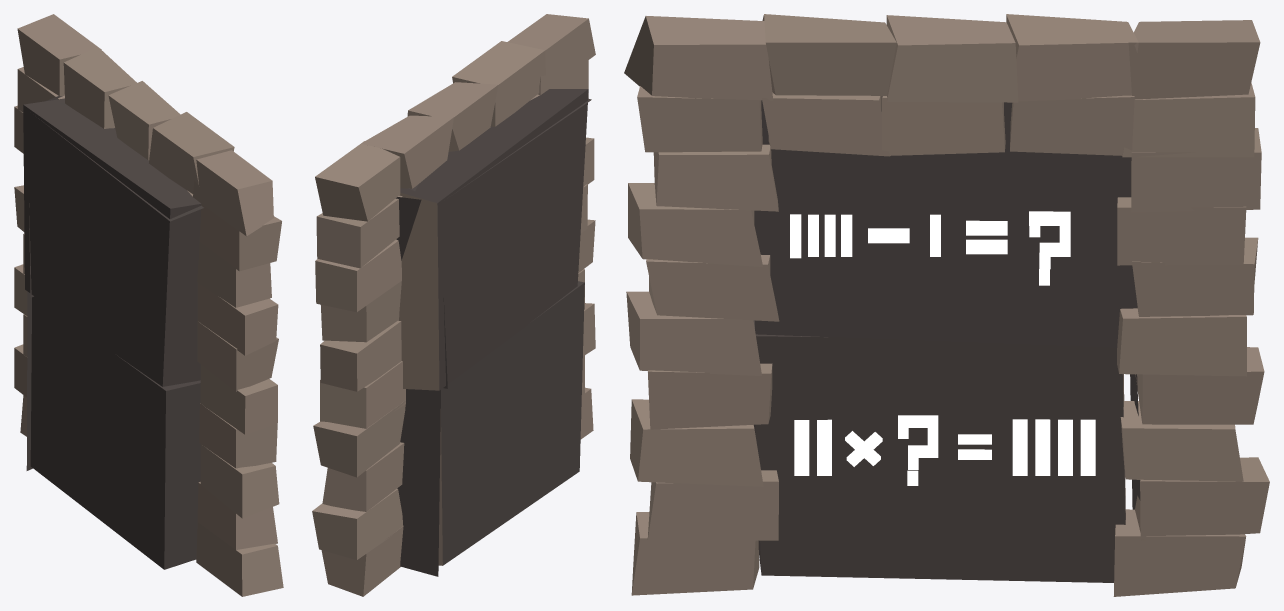
The model's file is Puzzle Wall 2.fbx.
3 renders of one model, left to right at view 1: azimuth 30°, elevation 25°; view 2: azimuth 150°, elevation 25°; view 3: azimuth 270°, elevation 25°, orthographic. The views are drawn at different scales.
Visible parts, largest first — view 1: Cube.002; view 2: Cube.002; view 3: Cube.002.
Part boxes in pixels (bbox=[...]): Cube.002: bbox=[14, 14, 283, 596]; Cube.002: bbox=[312, 14, 595, 596]; Cube.002: bbox=[624, 14, 1269, 596].
Bounding box in the file's own units: 409 × 2063 × 2177.
